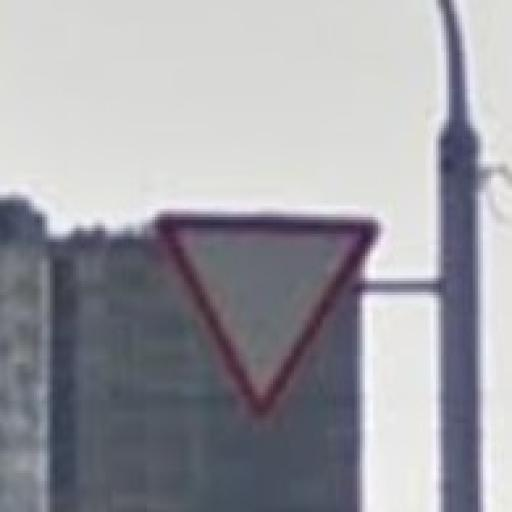traffic_sign: (154, 210, 385, 421)
